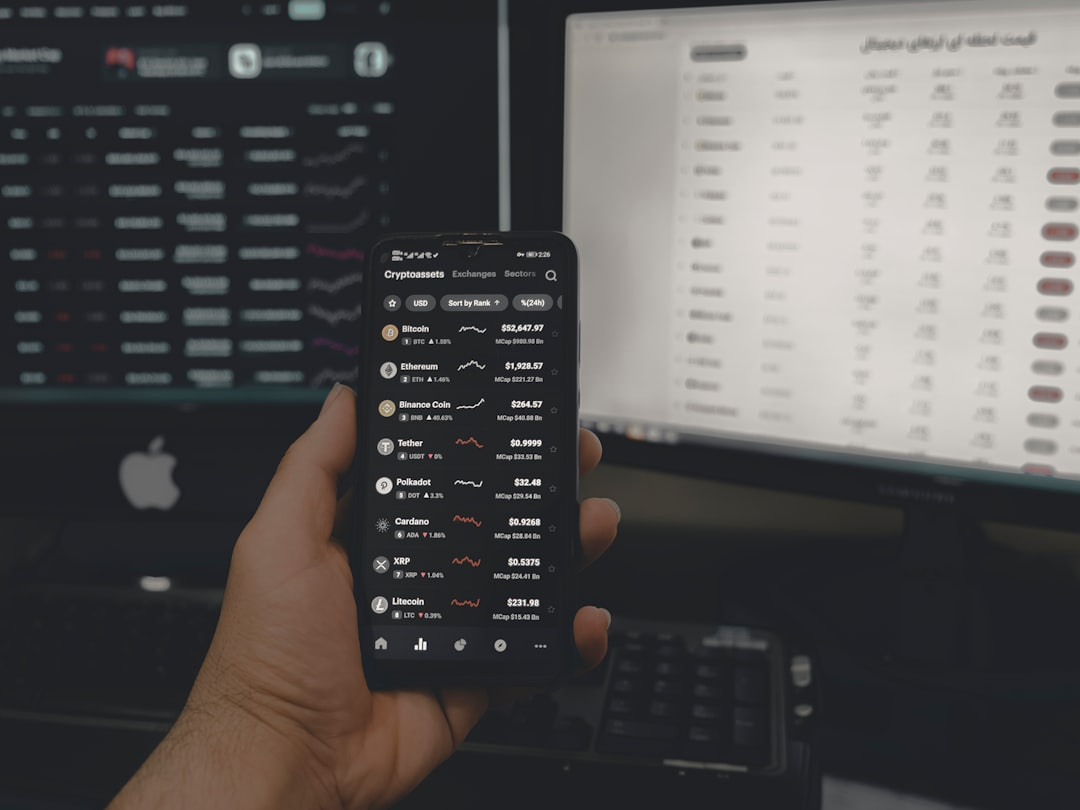phone: (343, 227, 581, 685)
